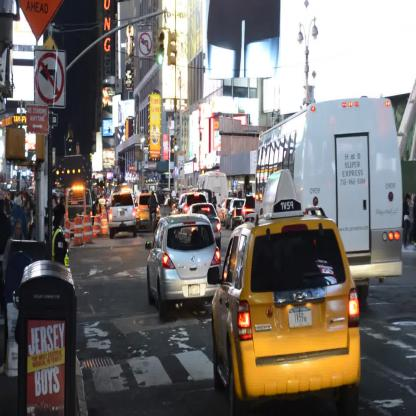bus: (255, 100, 403, 309)
car: (212, 214, 361, 415), (147, 213, 221, 316), (108, 193, 138, 238), (135, 193, 160, 227)
